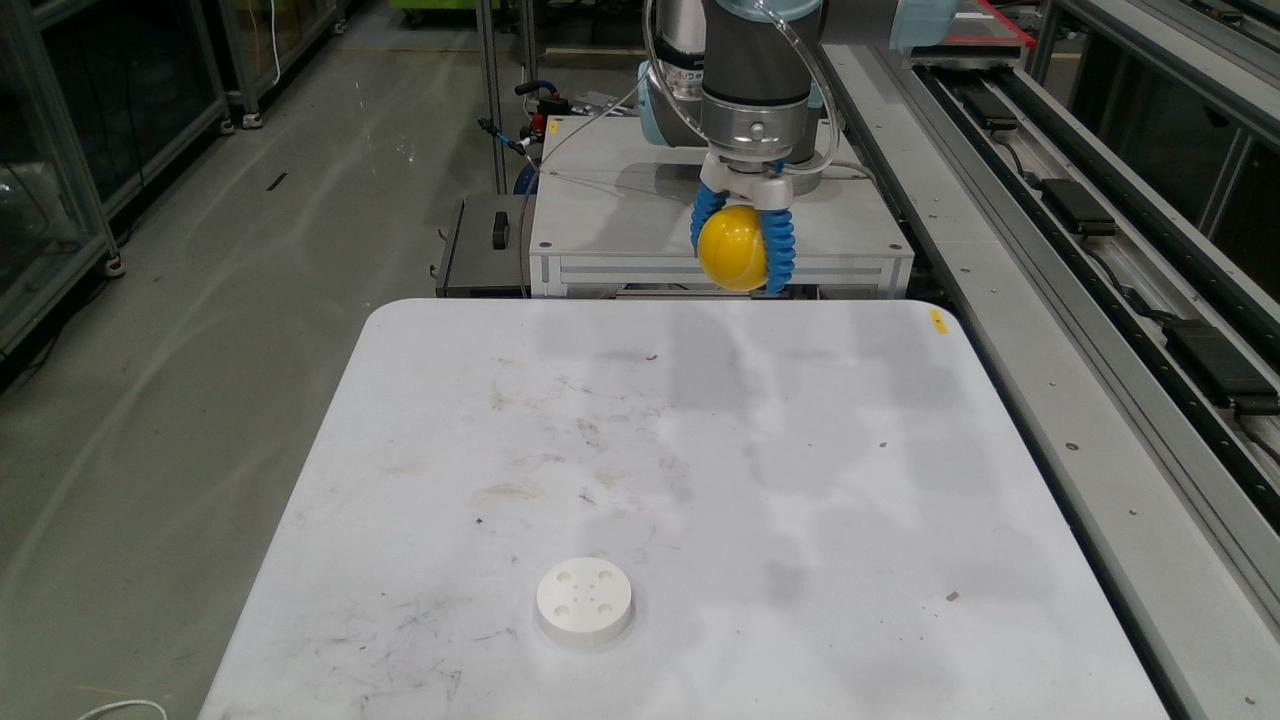UR5: (637, 0, 958, 210)
gripper_left: (690, 182, 728, 256)
gripper_right: (758, 209, 795, 295)
target: (534, 557, 634, 647), (697, 205, 767, 292)
